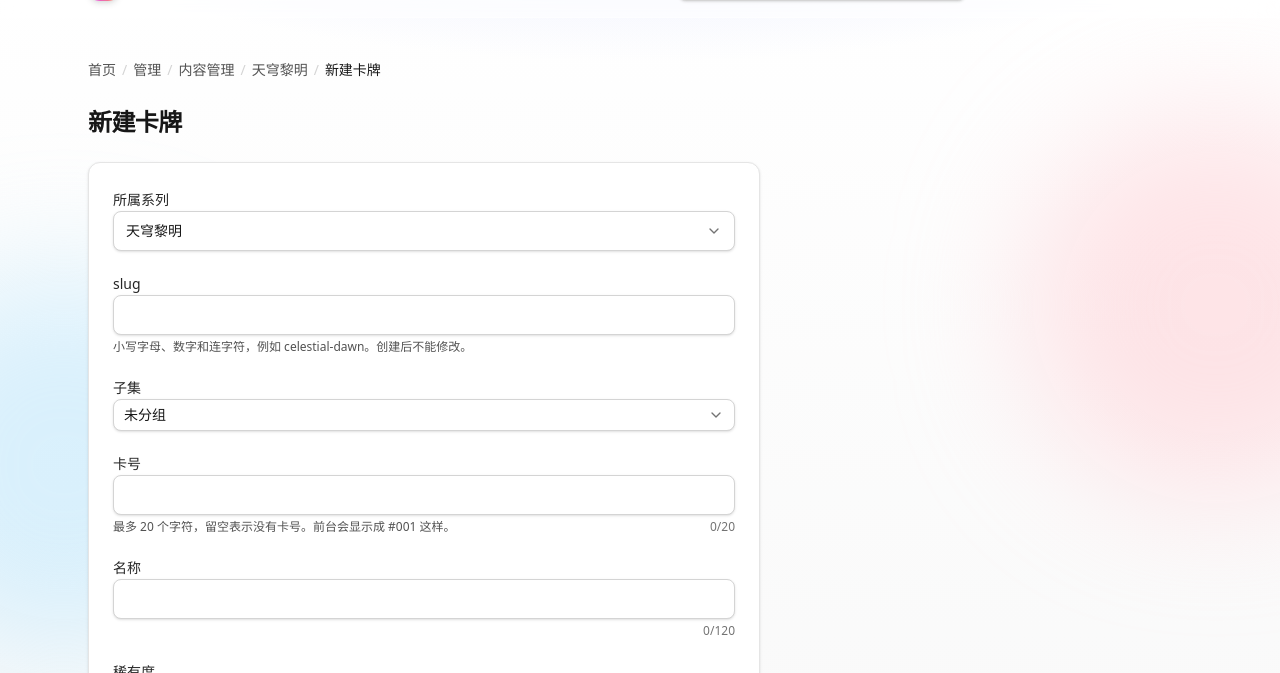
it: card form server validation › puts the attribute cap on the attributes field and moves focus there
Type "aurora-knight" into the field labelled "slug".
click(424, 315); type("aurora-knight")  # box [113,295,735,335]
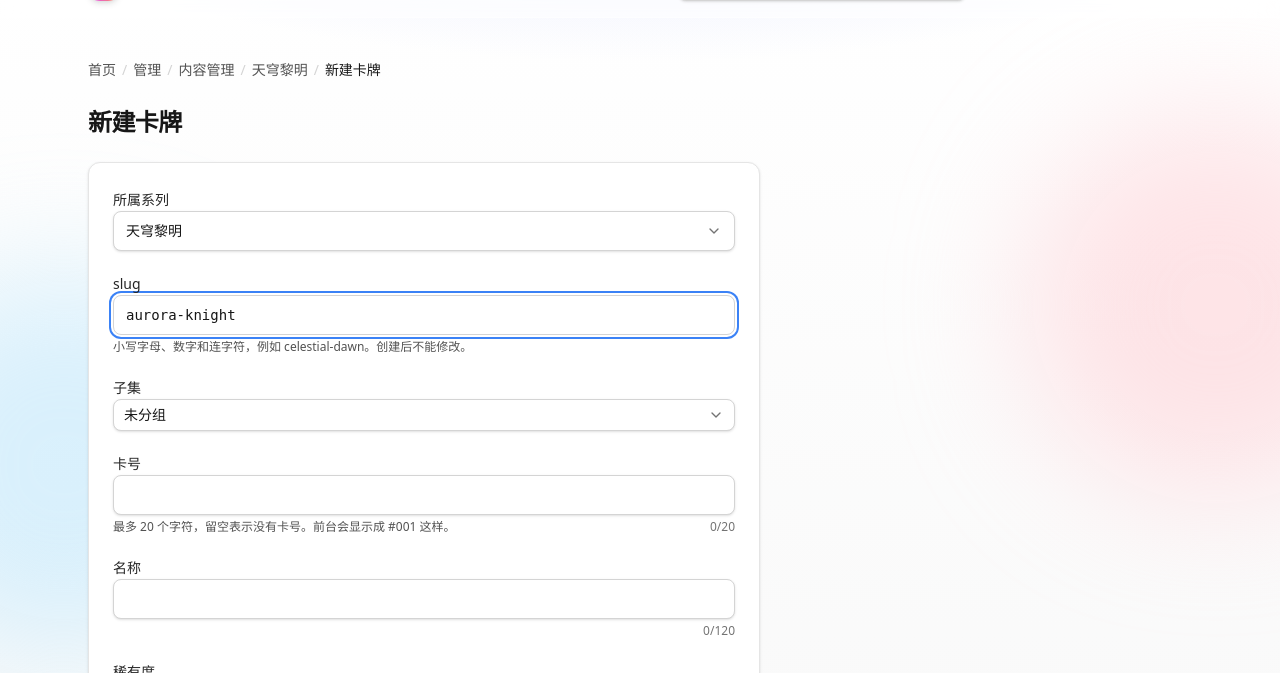
Type "极光骑士" into the field labelled "名称".
click(424, 599); type("极光骑士")  # box [113,579,735,619]
(page scrolled)
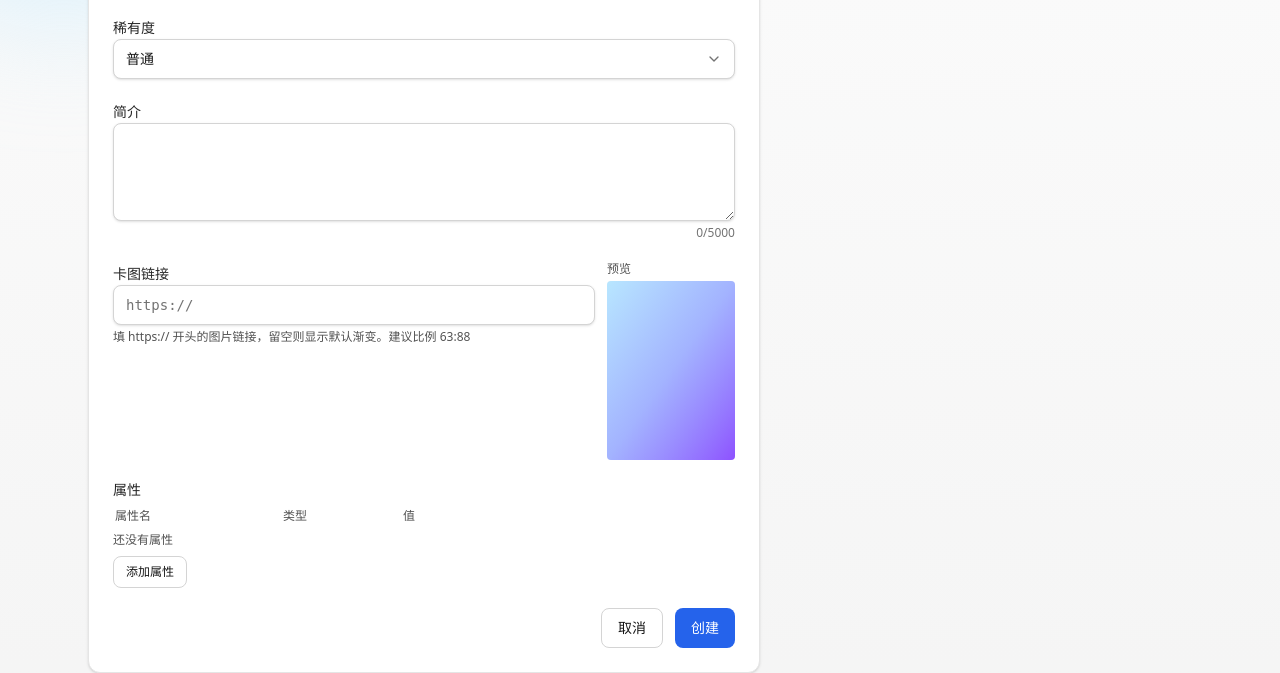
Click the button "创建".
click(705, 628)  # box [675,608,735,648]
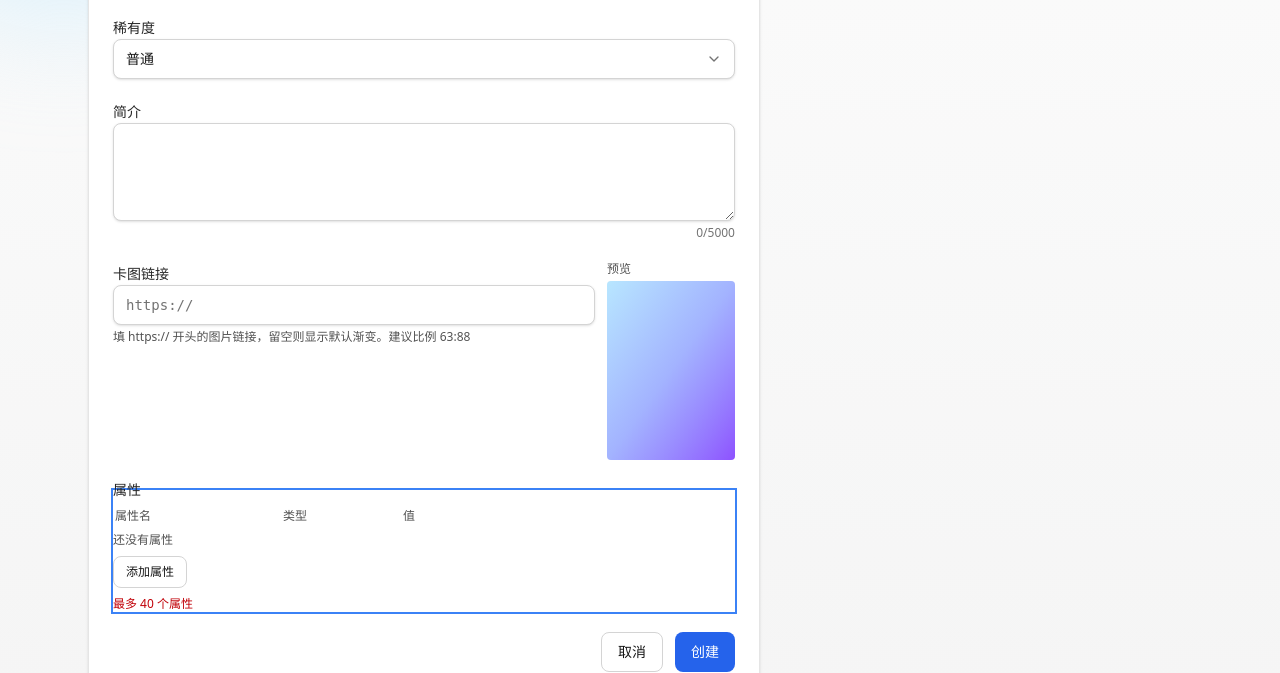
Expected: the element with id "card-attributes" shows "最多 40 个属性", [113,595,193,612]
